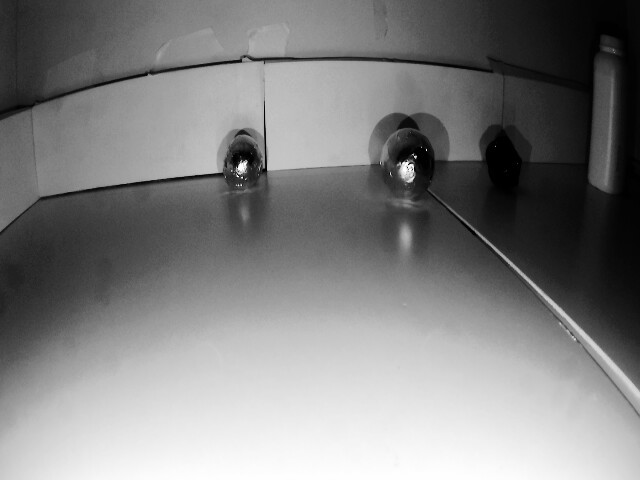black: (373, 114, 439, 202), (224, 130, 267, 185)
silver: (483, 120, 533, 194)
